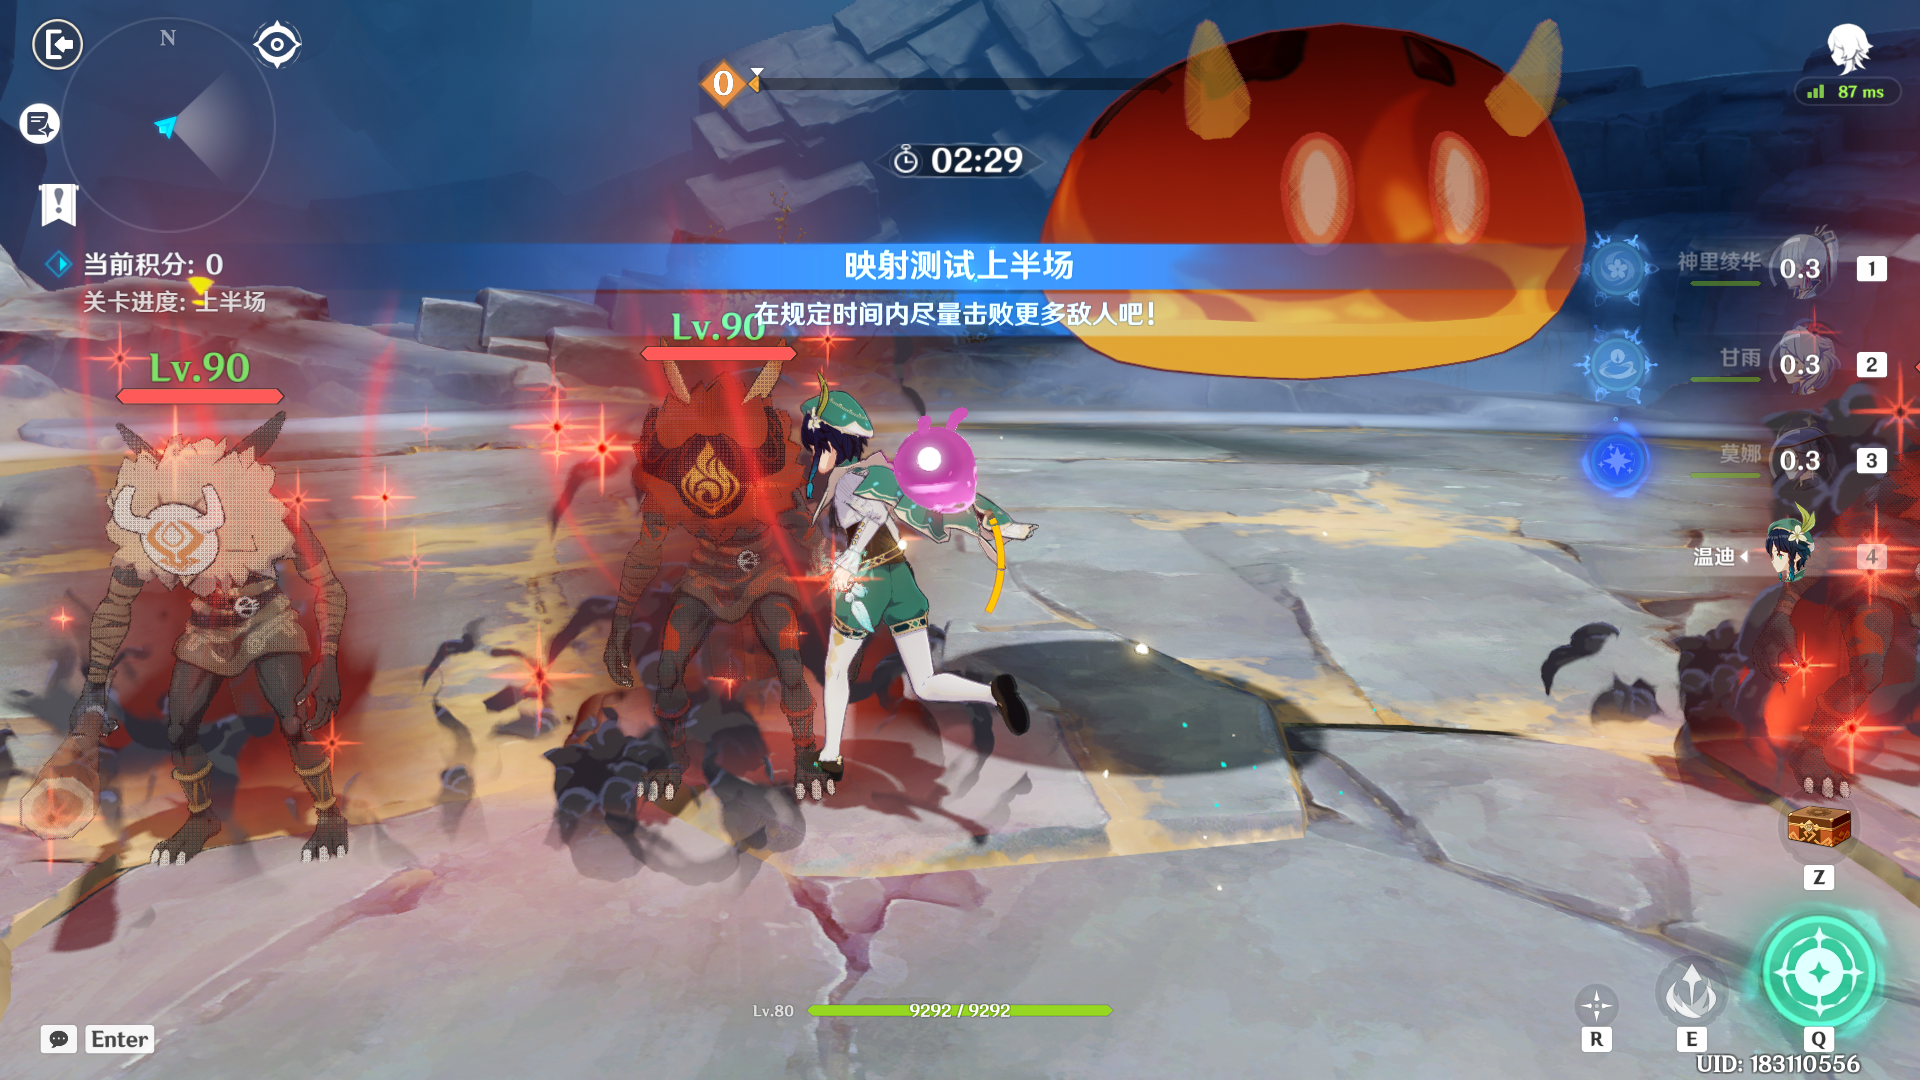character: (732, 349, 1069, 845)
hili: (34, 392, 443, 924), (531, 338, 884, 869)
